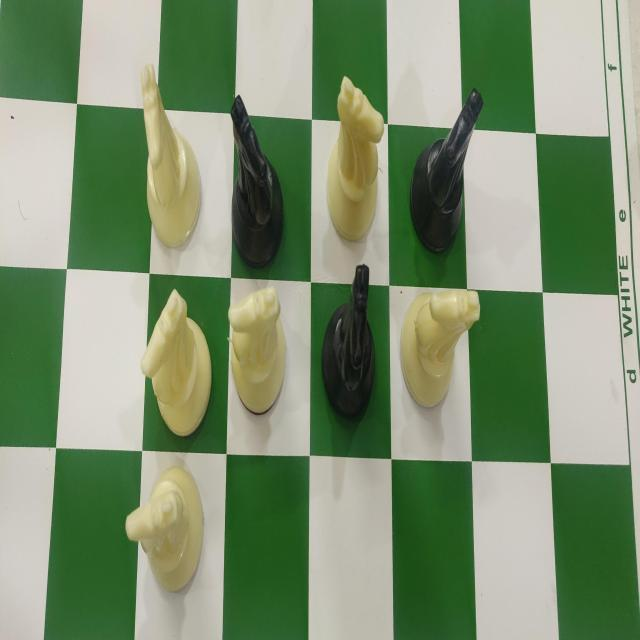black-knight: (409, 87, 486, 254), (318, 264, 378, 420), (232, 97, 284, 267)
white-knight: (140, 64, 203, 246), (138, 288, 214, 438), (123, 466, 208, 591), (396, 287, 480, 411), (324, 76, 384, 242), (228, 289, 286, 417)
